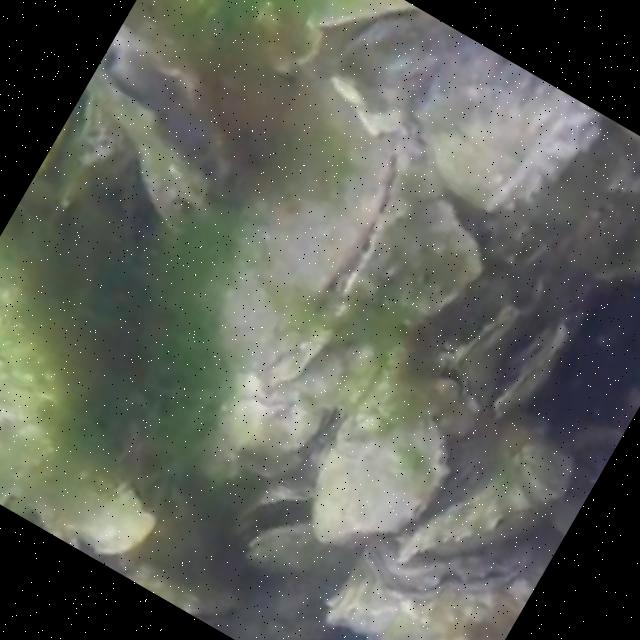Oyster-Closed: (413, 40, 608, 211), (392, 434, 571, 564), (316, 408, 444, 550), (319, 554, 521, 640), (380, 194, 485, 317), (567, 203, 640, 288)
Oyster-Open: (191, 66, 409, 391), (88, 35, 226, 215), (445, 274, 577, 415), (228, 484, 346, 582), (371, 542, 528, 596)
